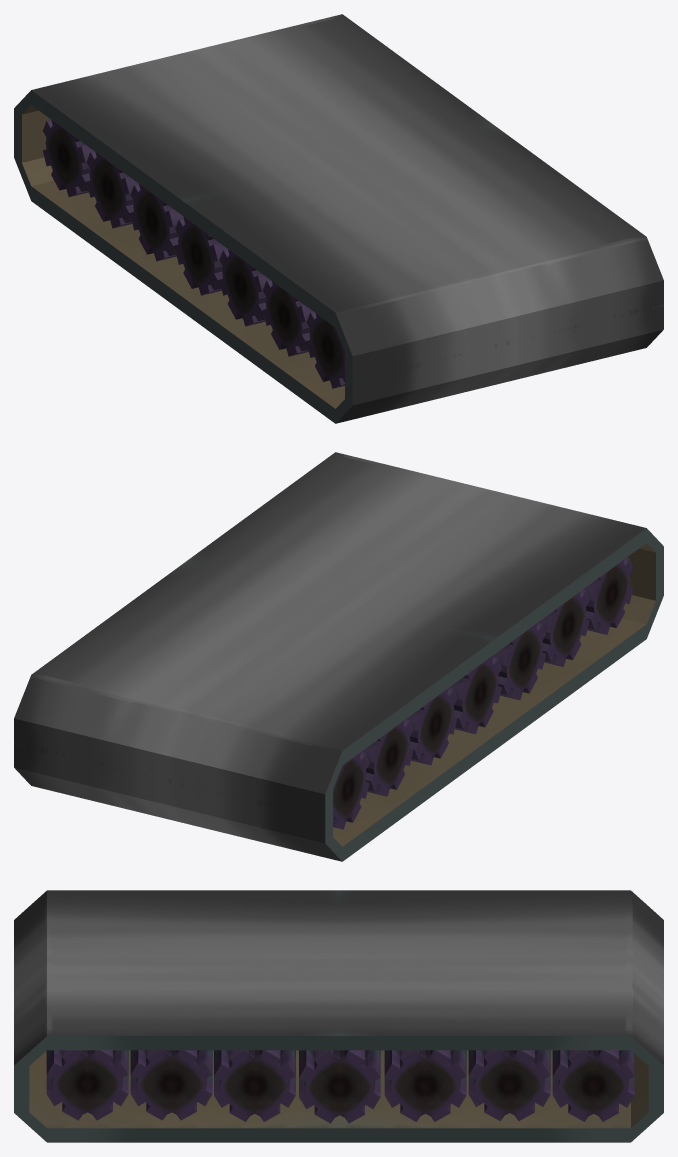
The model's file is assembler-belt.fbx.
3 renders of one model, top to bottom at view 1: azimuth 30°, elevation 25°; view 2: azimuth 150°, elevation 25°; view 3: azimuth 270°, elevation 25°, orthographic. The views are drawn at different scales.
Parts seen in each view (by area): view 1: assembler-belt.002, assembler-gear.009, assembler-gear.002, assembler-gear.004, assembler-gear.005, assembler-gear.003, assembler-gear.006, assembler-gear.007; view 2: assembler-belt.002, assembler-gear.009, assembler-gear.005, assembler-gear.002, assembler-gear.003, assembler-gear.007, assembler-gear.006, assembler-gear.004; view 3: assembler-belt.002, assembler-gear.009, assembler-gear.002, assembler-gear.004, assembler-gear.005, assembler-gear.003, assembler-gear.006, assembler-gear.007.
Boxes of the visible parts, x1,y1,x2,y2 form: assembler-belt.002: (14, 14, 663, 423); assembler-gear.009: (175, 217, 227, 295); assembler-gear.002: (130, 183, 183, 261); assembler-gear.004: (43, 119, 93, 196); assembler-gear.005: (219, 249, 269, 326); assembler-gear.003: (86, 151, 138, 228); assembler-gear.006: (262, 279, 312, 356); assembler-gear.007: (306, 311, 344, 388); assembler-belt.002: (14, 452, 663, 861); assembler-gear.009: (449, 656, 501, 734); assembler-gear.005: (493, 623, 545, 700); assembler-gear.002: (406, 688, 457, 765); assembler-gear.003: (361, 719, 413, 796); assembler-gear.007: (583, 557, 633, 634); assembler-gear.006: (538, 590, 589, 666); assembler-gear.004: (333, 752, 369, 829); assembler-belt.002: (14, 890, 663, 1142); assembler-gear.009: (299, 1050, 380, 1123); assembler-gear.002: (384, 1050, 466, 1121); assembler-gear.004: (552, 1050, 634, 1121); assembler-gear.005: (214, 1050, 295, 1121); assembler-gear.003: (468, 1050, 550, 1121); assembler-gear.006: (130, 1050, 212, 1120); assembler-gear.007: (46, 1050, 128, 1120).
Size of the model in its own units: 236 by 80.52 by 445.
